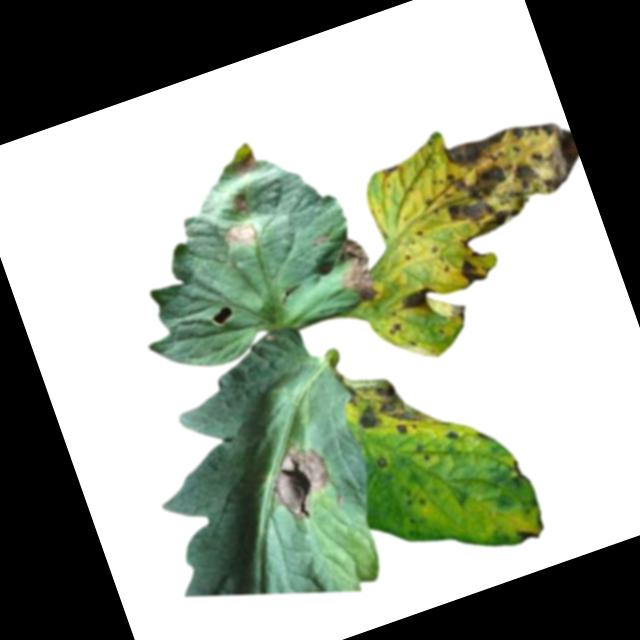Early_blight: (428, 108, 594, 247), (341, 361, 435, 452), (259, 431, 343, 528), (329, 232, 384, 309), (397, 283, 441, 317), (223, 217, 260, 252), (454, 255, 490, 289), (229, 150, 261, 181), (229, 189, 251, 215), (372, 452, 392, 476), (384, 321, 408, 341), (516, 527, 540, 546), (443, 427, 464, 447), (380, 163, 402, 179)
